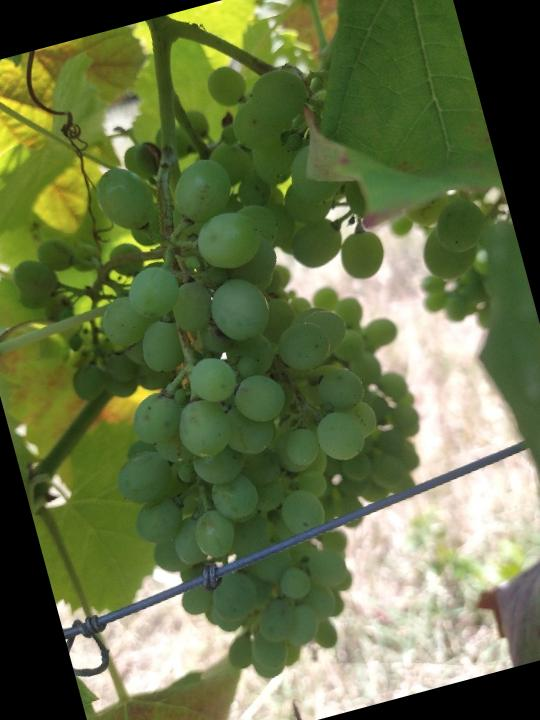grape: (0, 36, 484, 720)
